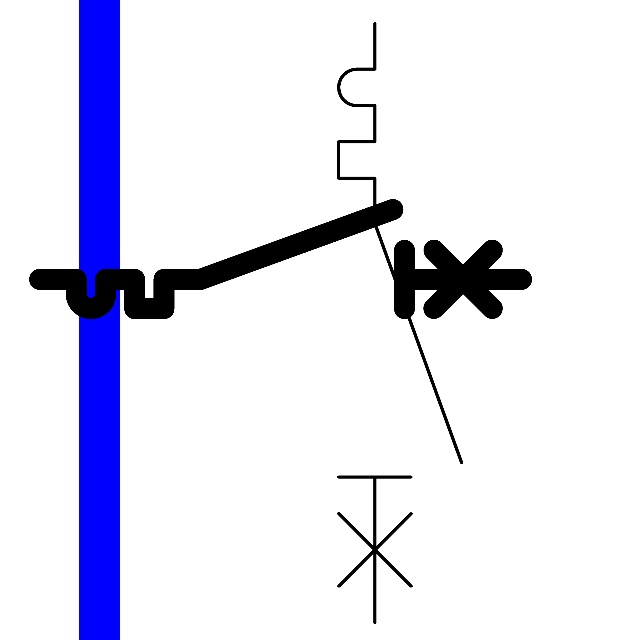interruptor_termomagnetico: (323, 8, 477, 638), (27, 197, 534, 321)
